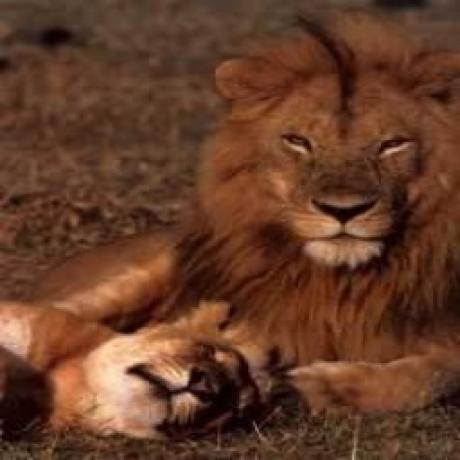Lion: (30, 23, 460, 413), (0, 291, 313, 436)
